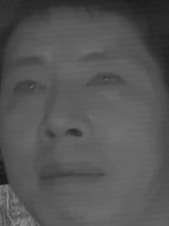eye: (85, 69, 123, 94), (10, 76, 47, 99)
mouth: (38, 155, 108, 197)
